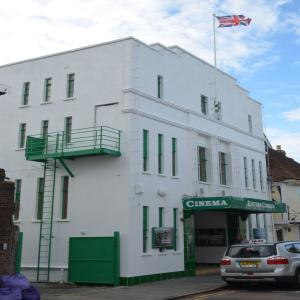Vehicle-registration-plate: (238, 262, 261, 269)
